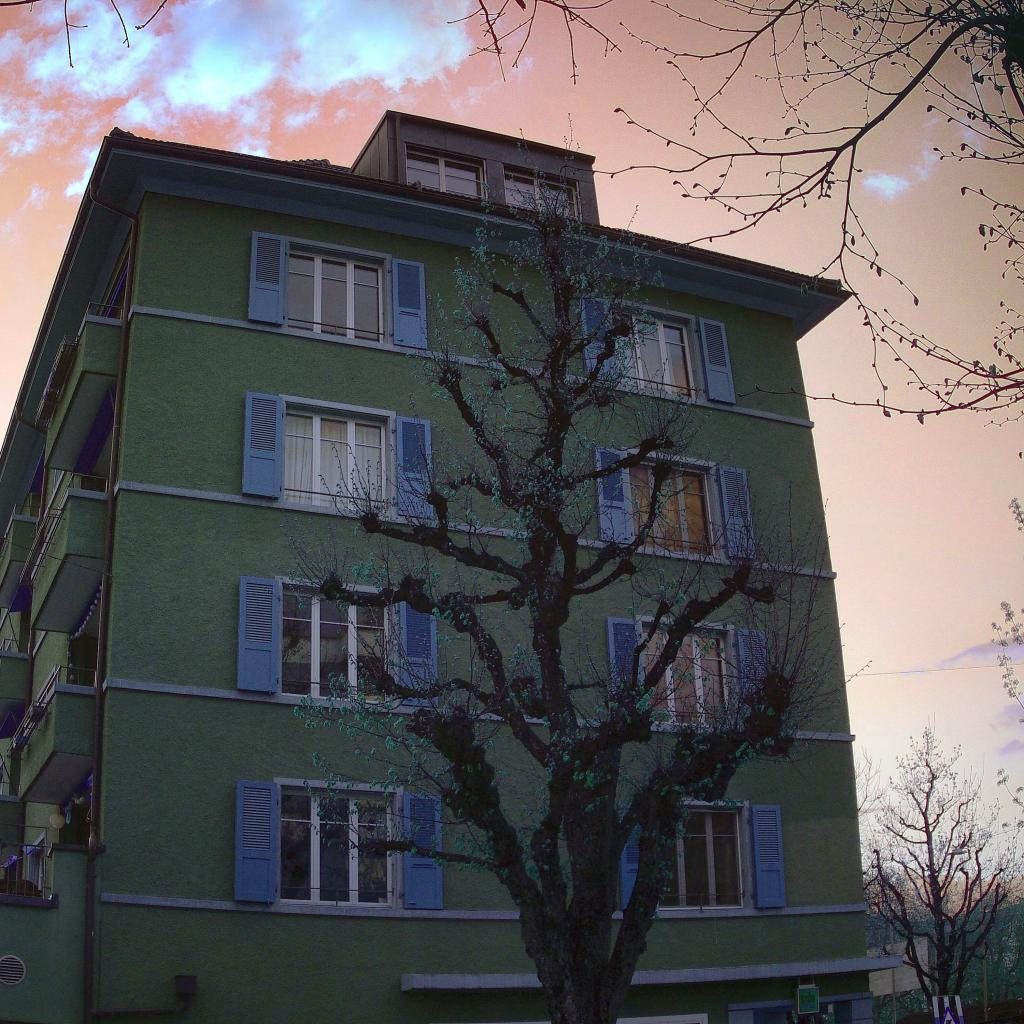balcony-fence: (35, 302, 124, 431), (19, 470, 108, 585), (7, 665, 96, 759), (0, 638, 29, 653), (0, 782, 21, 798)
facade: (0, 110, 904, 1024)
fence: (0, 842, 89, 1024)
shop: (728, 992, 874, 1024)
traffic-infrastructure: (794, 975, 819, 1015), (933, 996, 964, 1024)
vegetation: (268, 112, 876, 1024), (583, 0, 1024, 459), (854, 498, 1024, 1024), (448, 0, 623, 85), (64, 0, 88, 68), (135, 0, 168, 31), (110, 0, 130, 48)
window: (279, 787, 397, 908), (282, 580, 396, 705), (284, 406, 386, 512), (286, 247, 385, 344), (643, 621, 733, 727), (653, 808, 744, 909), (627, 454, 717, 556), (611, 309, 697, 397), (407, 148, 485, 199), (505, 170, 577, 219)
